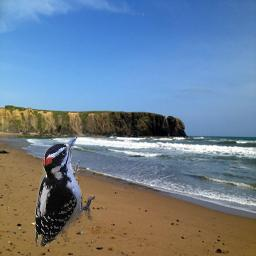Woodpecker: (35, 135, 95, 247)
